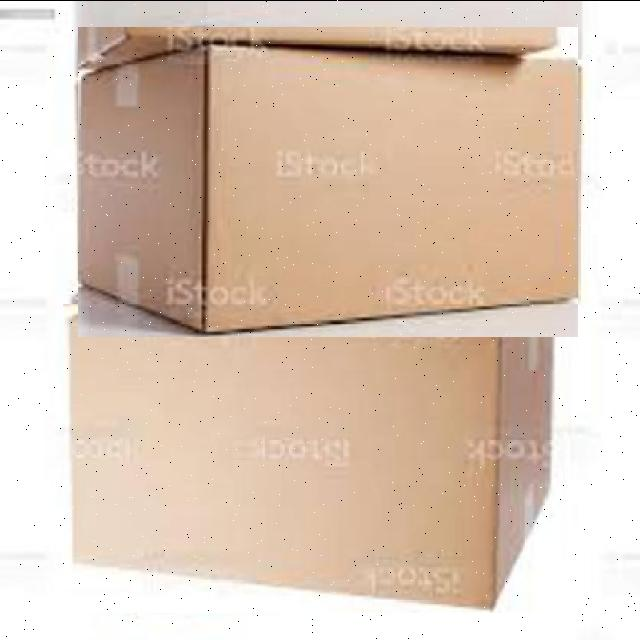normal: (79, 26, 578, 336), (63, 303, 563, 612)
